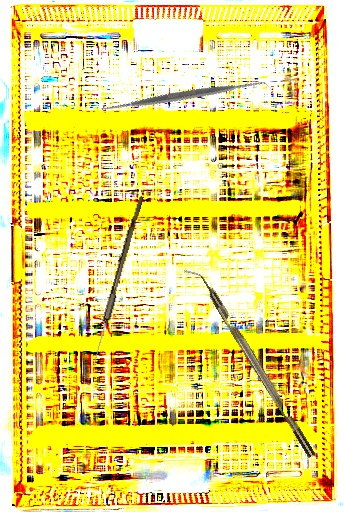Chopper: (183, 261, 316, 464)
Spatula Surgical: (95, 8, 272, 184)
Surgical Spoon: (90, 194, 144, 368)
